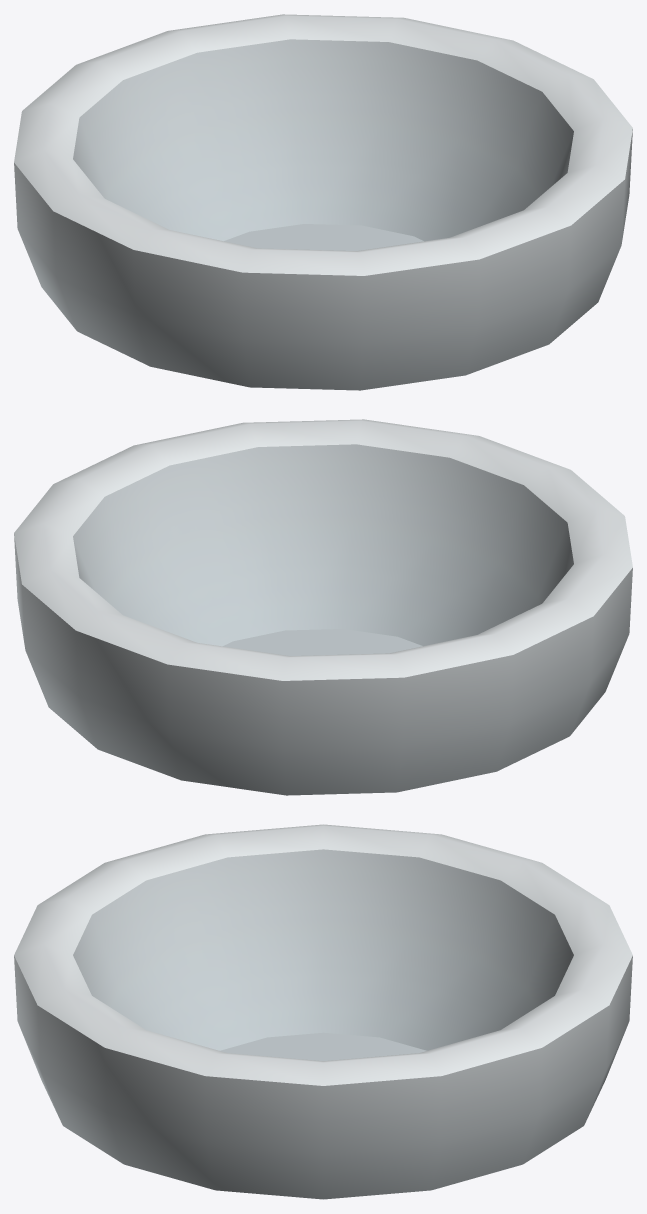
The model's file is kay-bowl.glb.
3 views of the same model, one above another, from view 1: azimuth 30°, elevation 25°; view 2: azimuth 150°, elevation 25°; view 3: azimuth 270°, elevation 25° (orthographic).
Visible parts, largest first — view 1: bowl; view 2: bowl; view 3: bowl.
Part boxes in pixels (x1,y1,x2,y2): bowl: (14,14,632,390); bowl: (14,419,632,795); bowl: (14,824,632,1199).
Bounding box in the file's own units: 0.22 × 0.0695 × 0.22.
1 material, 1 textured.
